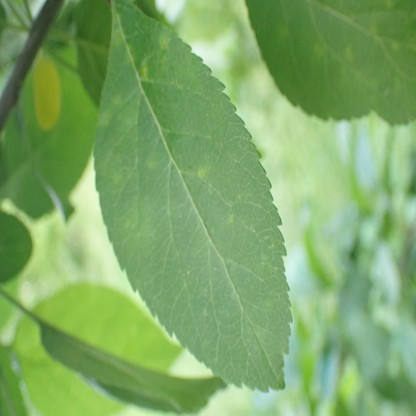scab: (123, 198, 148, 242), (94, 154, 125, 187), (311, 42, 324, 62), (157, 32, 171, 50), (98, 108, 111, 125), (344, 45, 355, 64), (197, 164, 210, 180), (147, 152, 157, 171), (113, 26, 123, 45), (367, 21, 377, 39), (110, 92, 122, 104), (391, 38, 401, 52), (278, 24, 287, 38), (141, 61, 148, 79), (227, 213, 234, 224)
